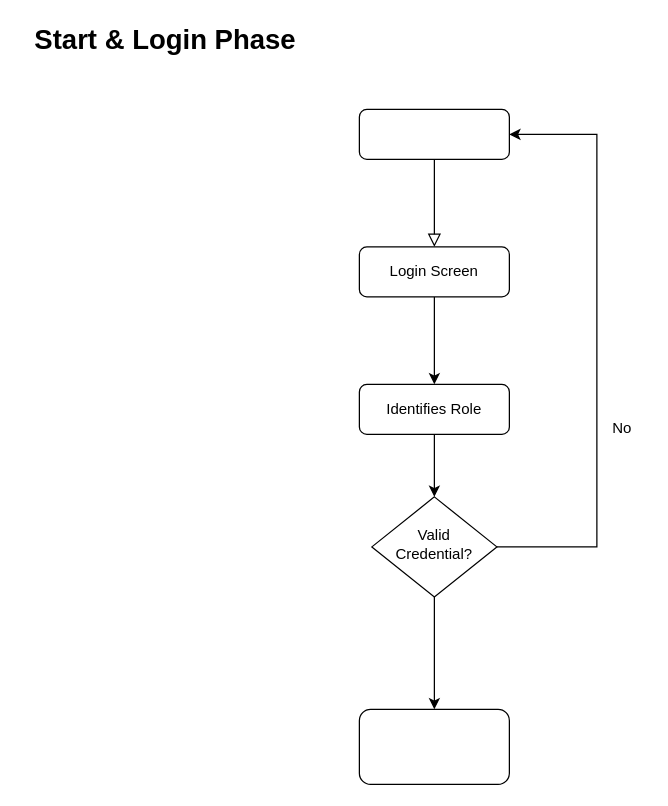
This 668x806 diagram has some shape labels left out. The shapes that lost their labels are listed below. From the top down, each one's centre as x and y in pixels, then its label:
At pixel 433 133: "Start".
At pixel 433 746: "Jump to Role Home Page".
